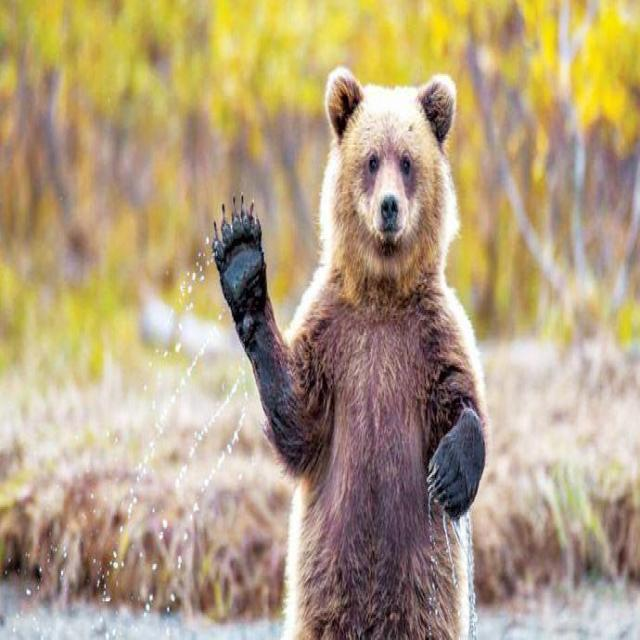Bear: (214, 67, 489, 640)
